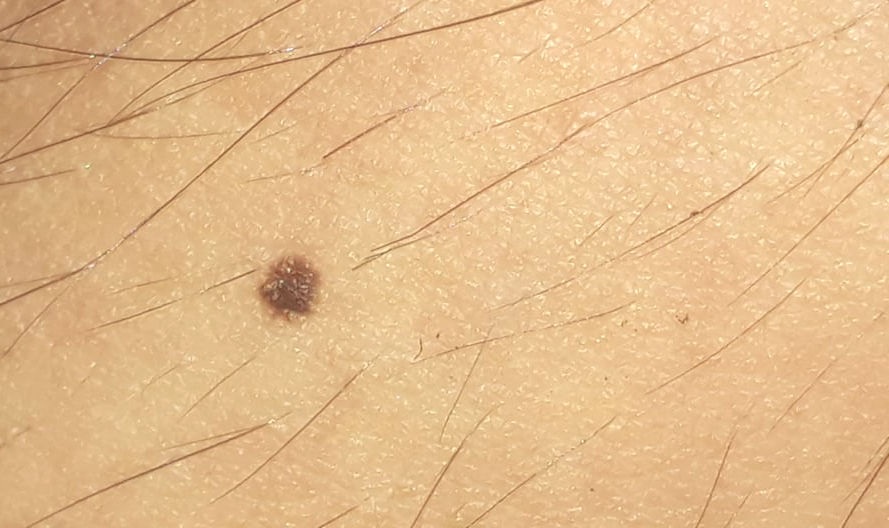Normal: (256, 255, 326, 325)
